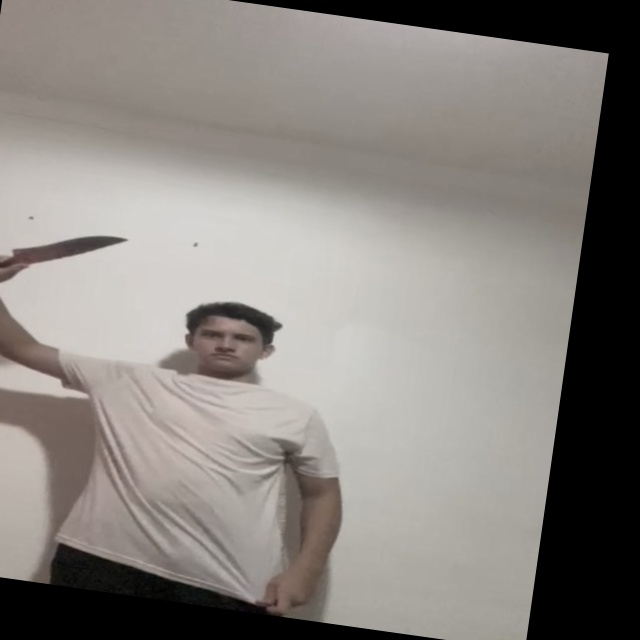Sharp-Object: (11, 219, 134, 274)
